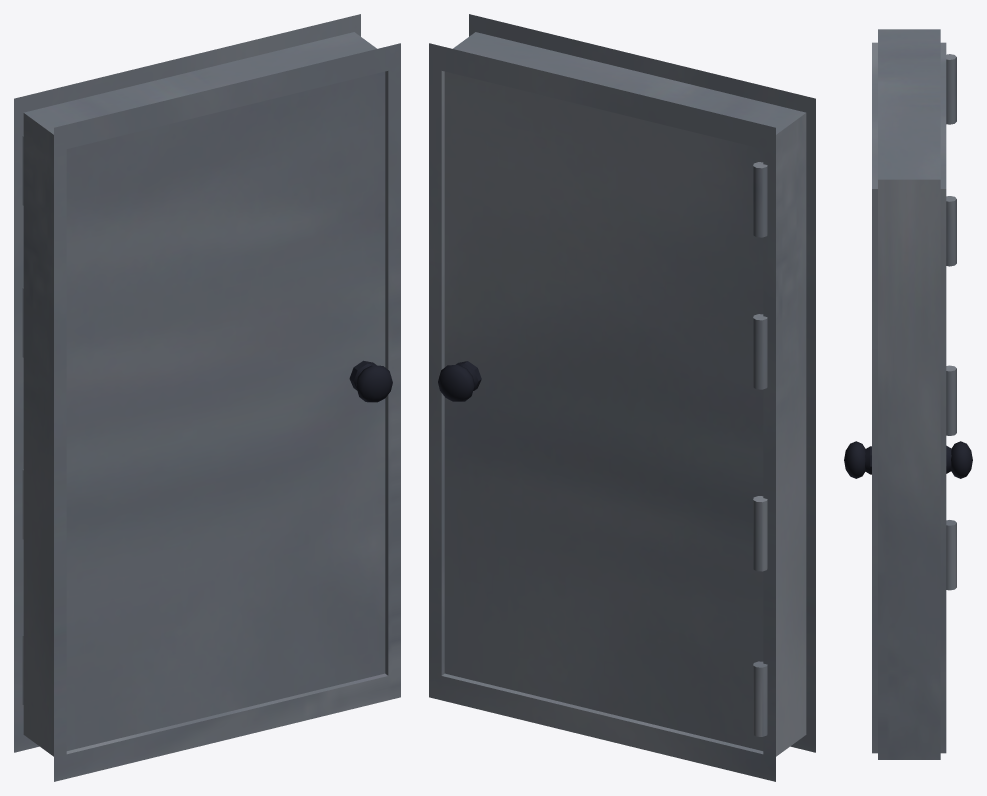
Rendered from door (1).FBX.
3 renders of one model, left to right at view 1: azimuth 30°, elevation 25°; view 2: azimuth 150°, elevation 25°; view 3: azimuth 270°, elevation 25°, orthographic. The views are drawn at different scales.
Visible parts, largest first — view 1: door, Frame; view 2: door, Frame, Object002; view 3: door, Frame, Object002.
Part boxes in pixels (<box>): door: <box>22,32,392,756</box>; Frame: <box>14,14,400,781</box>; door: <box>444,32,806,756</box>; Frame: <box>429,14,815,781</box>; Object002: <box>438,361,481,401</box>; door: <box>844,29,956,759</box>; Frame: <box>872,42,946,753</box>; Object002: <box>946,441,972,478</box>.
Bounding box in the file's own units: 52.34 × 94.33 × 18.06.
